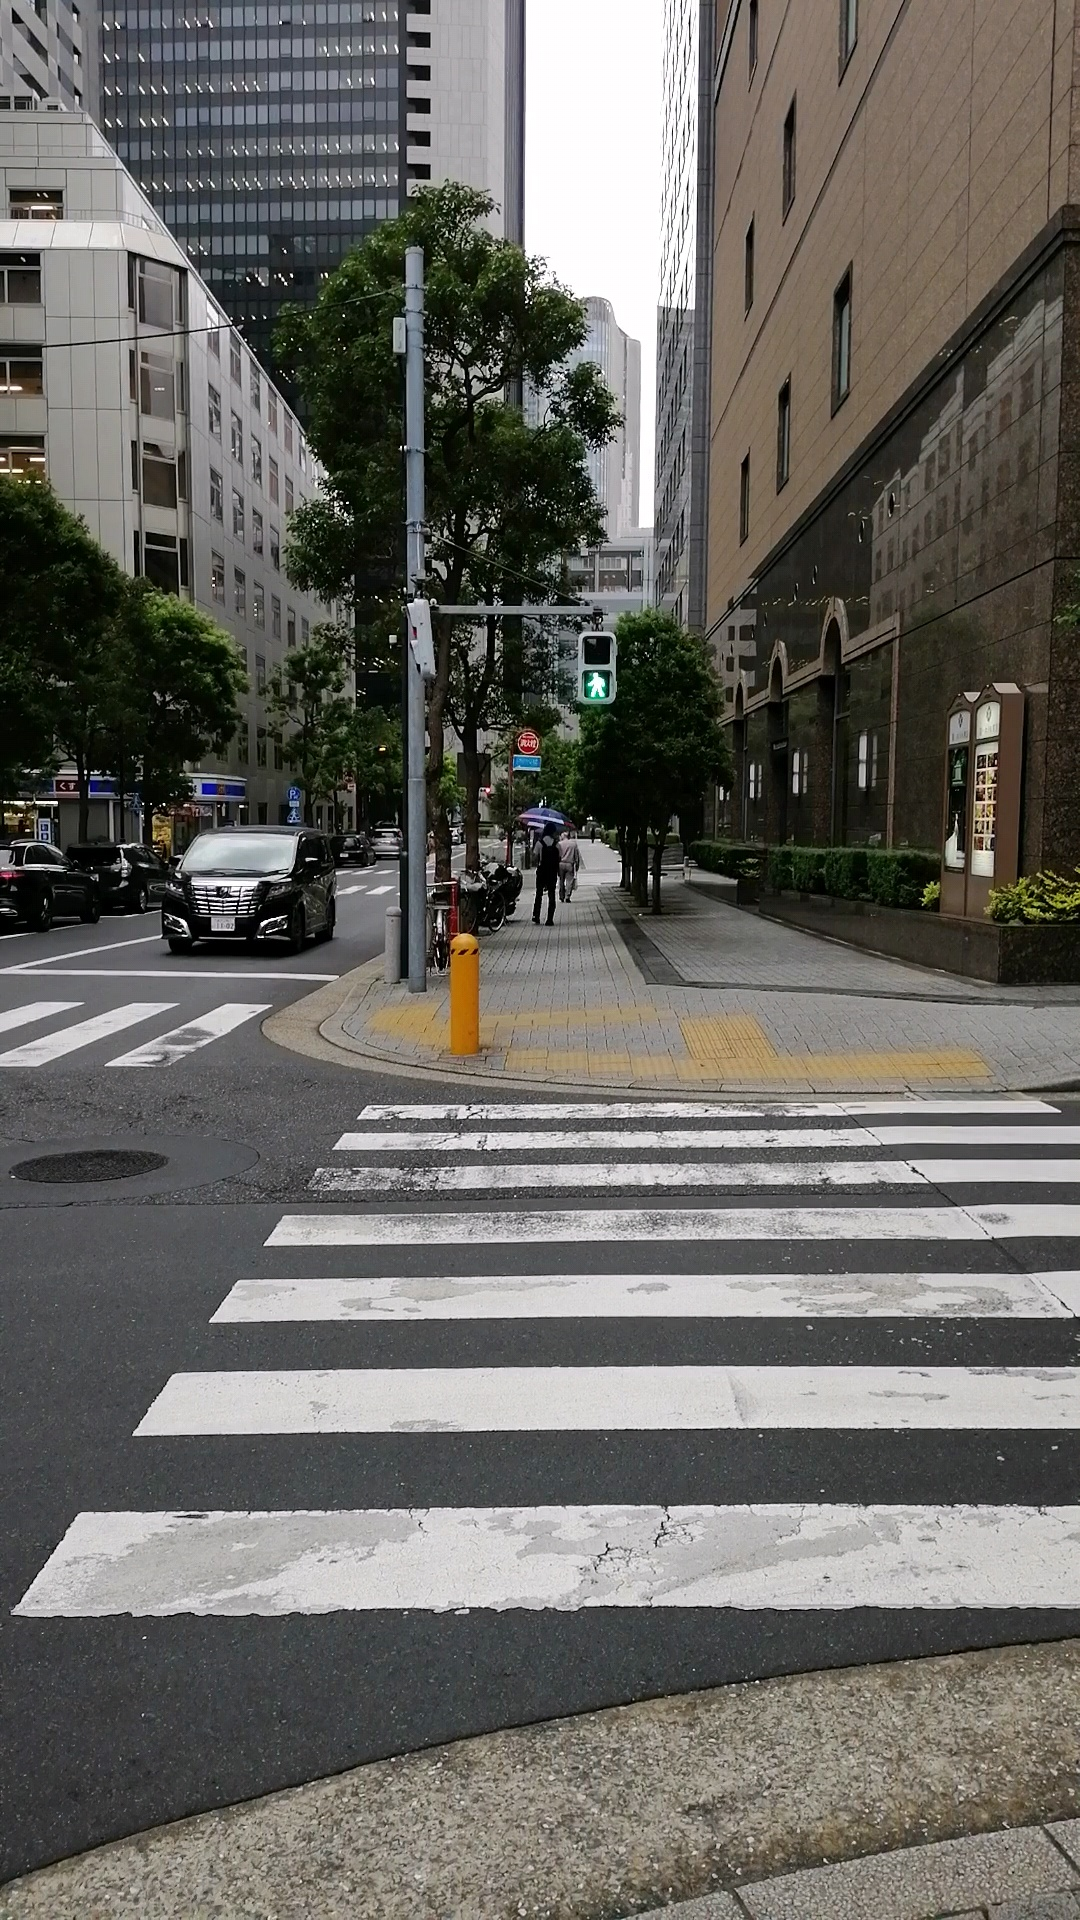green: (576, 632, 617, 705)
